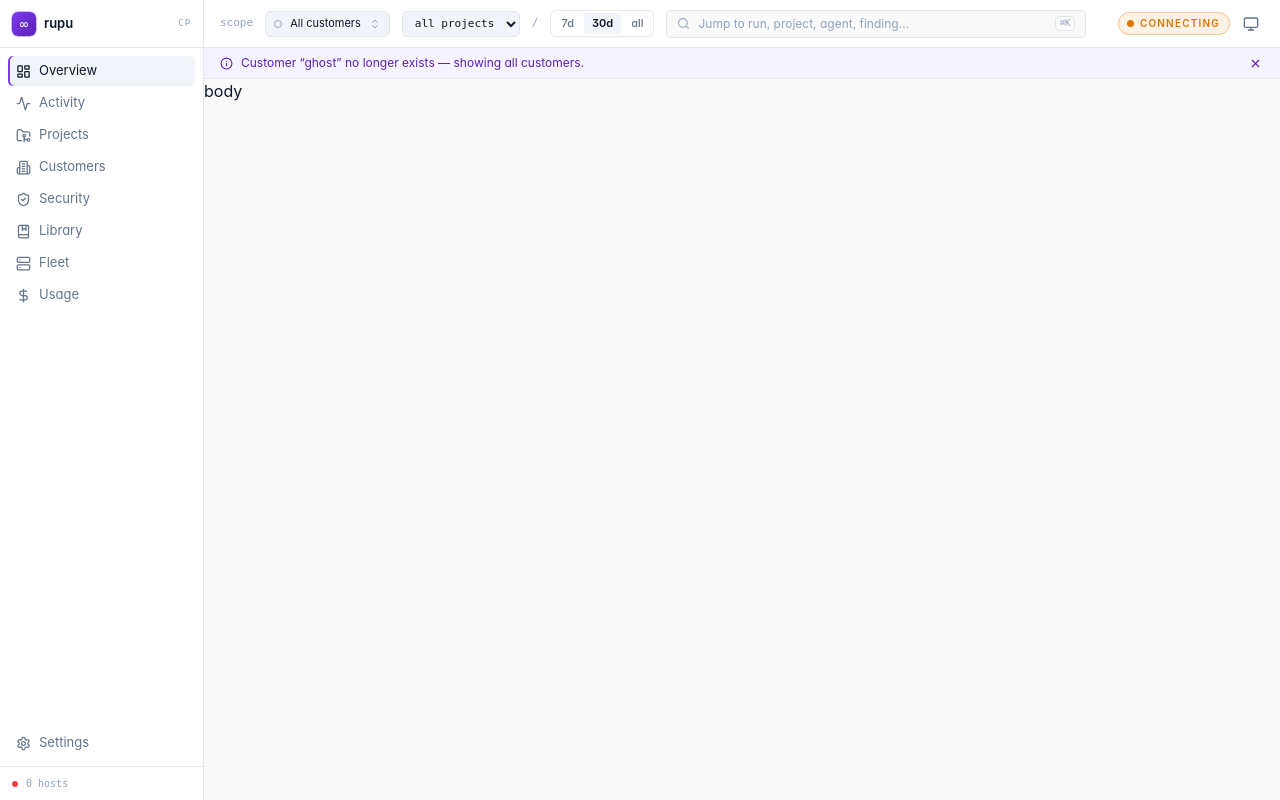
it: Shell v2 › shows a dismissible notice when a stored customer scope no longer exists
The image size is (1280, 800).
Expected: the message shows "ghost", [241,55,584,70]
What coordinates should you click on to do the following:
click the button named "dismiss"
I would click on:
 (1256, 63)
Its box is [1247,54,1264,72].
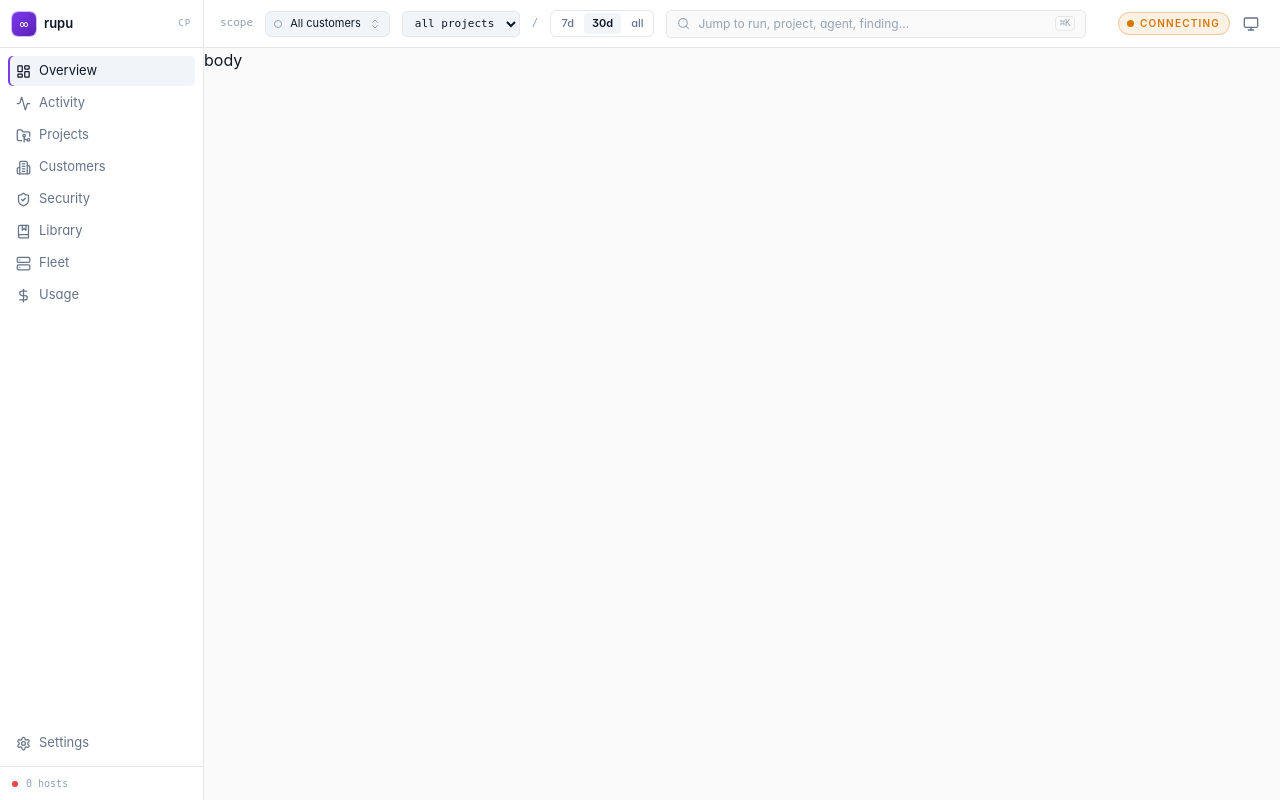
Result: the message "Customer “ghost” no longer exists — showing all customers." is gone
